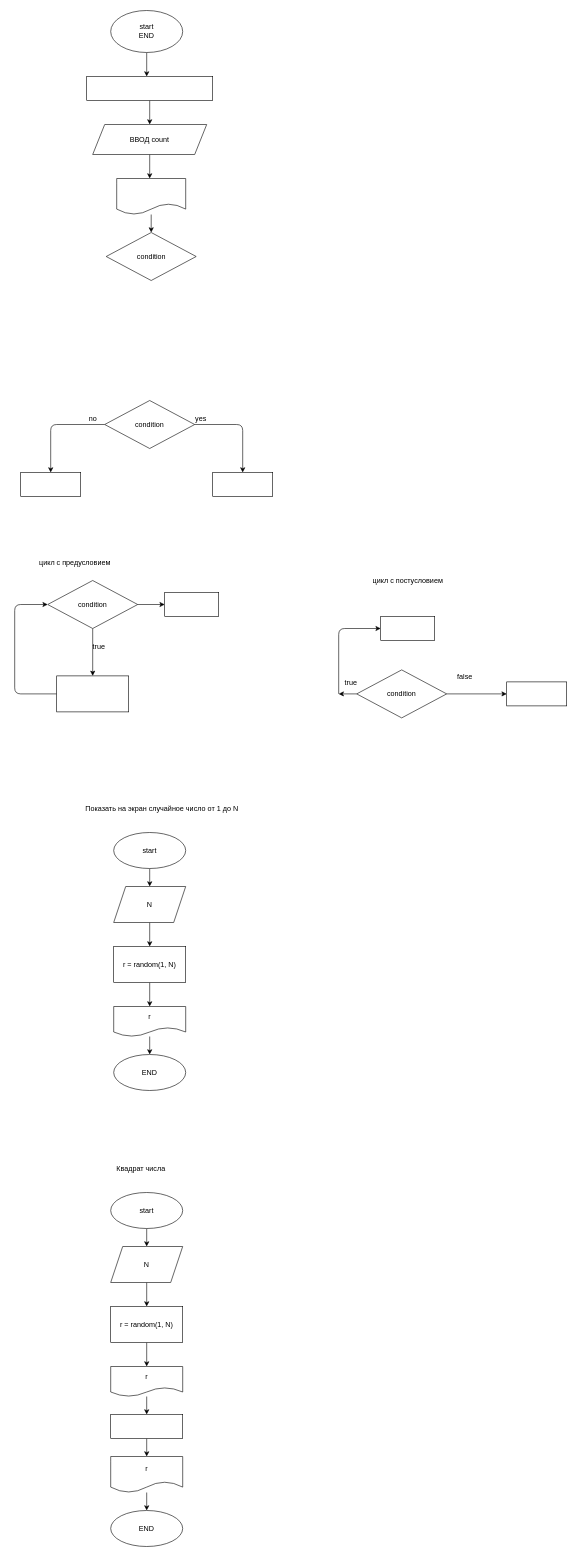
This 577x1557 diagram has some shape labels left out. The centre of each missing label's shape, as x and y in pixels:
count = 0 res = 1* Sqrt(2): point (149, 88)
r=r^2: point (146, 1426)
ВЫВОД res: point (151, 196)
